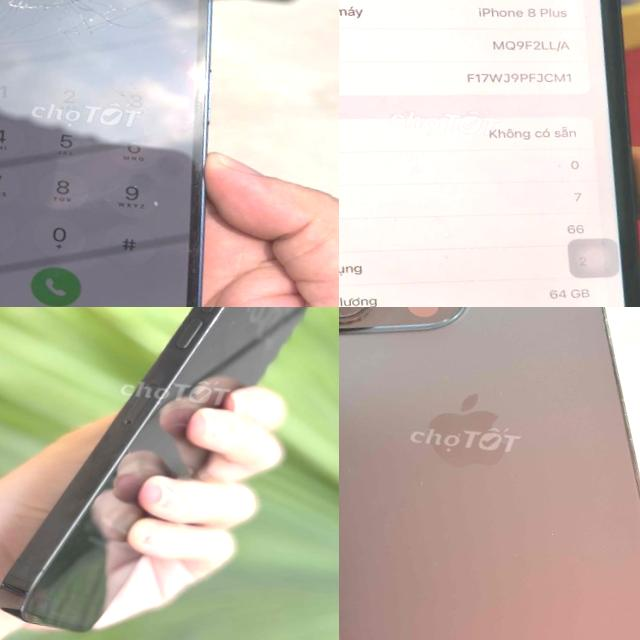gen_12_13: (0, 0, 245, 307)
gen_14: (0, 307, 334, 640), (339, 307, 640, 640)
gen_7_8: (339, 0, 640, 307)
physical_damage: (0, 0, 180, 52)
scratch: (339, 497, 350, 611)
